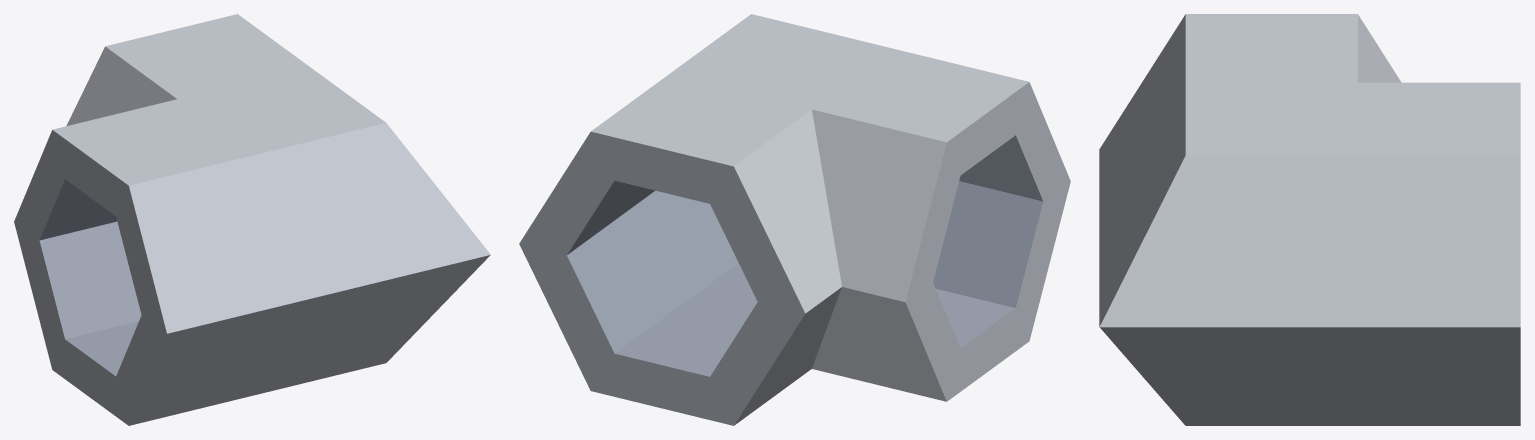
Rendered from pipe_corner.glb.
The picture shows the model from 3 angles, left to right: view 1: azimuth 30°, elevation 25°; view 2: azimuth 150°, elevation 25°; view 3: azimuth 270°, elevation 25°; orthographic projection. The views are drawn at different scales.
Visible parts, largest first — view 1: pipe_corner; view 2: pipe_corner; view 3: pipe_corner.
Part boxes in pixels (x1,y1,x2,y2): pipe_corner: [14, 14, 490, 425]; pipe_corner: [519, 14, 1070, 425]; pipe_corner: [1099, 14, 1520, 425].
Bounding box in the file's own units: 0.8464 × 0.6 × 0.8464.
